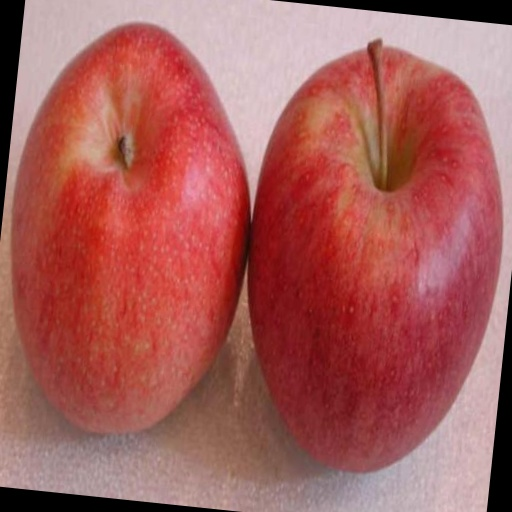fruit: (100, 120, 396, 485), (0, 108, 43, 461)
